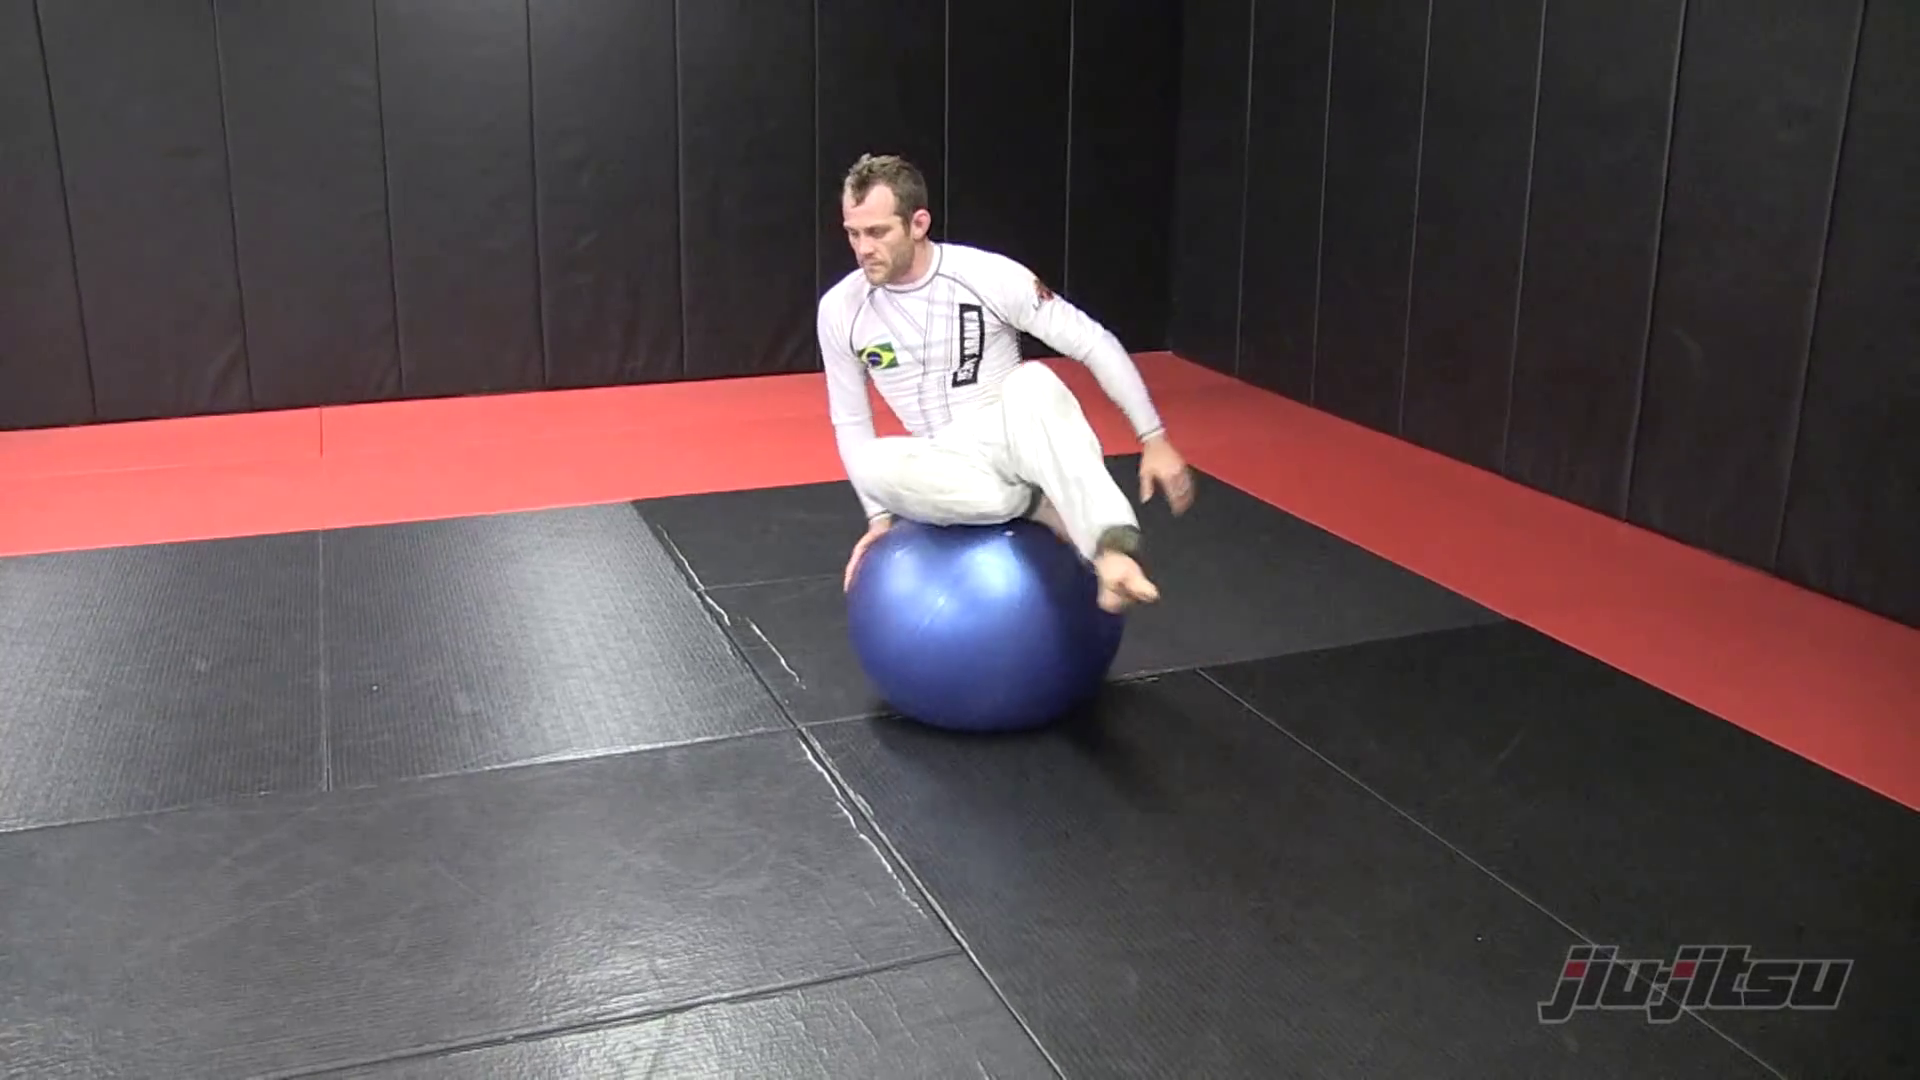yogaball: (827, 505, 1135, 754)
